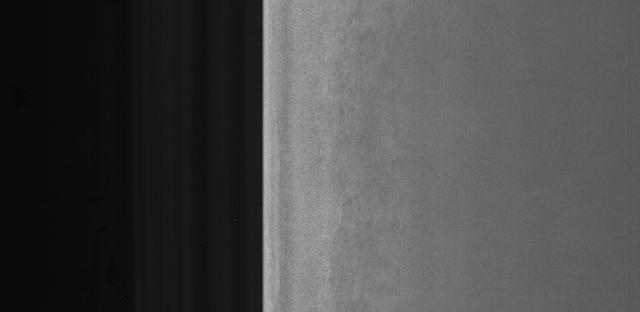silk_spot: (312, 47, 389, 202)
